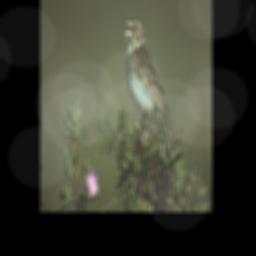Sparrow: (123, 10, 175, 158)
